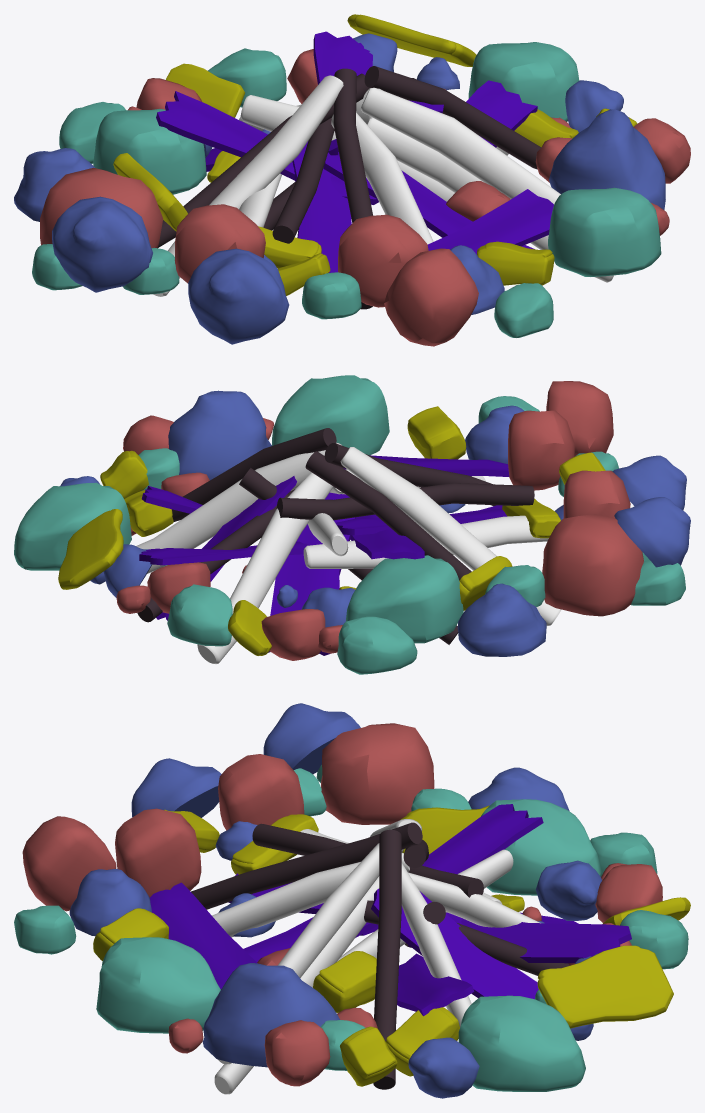
File: campfire.fbx
3 renders of one model, top to bottom at view 1: azimuth 30°, elevation 25°; view 2: azimuth 150°, elevation 25°; view 3: azimuth 270°, elevation 25°, orthographic. The views are drawn at different scales.
Parts seen in each view (by area): view 1: polySurface50; view 2: polySurface50; view 3: polySurface50.
Part boxes in pixels (box(x1,y1,x2,y2)): polySurface50: box(14, 14, 690, 346); polySurface50: box(14, 375, 690, 674); polySurface50: box(14, 703, 690, 1098).
Size of the model in its own units: 2.94 by 0.8546 by 2.73.
